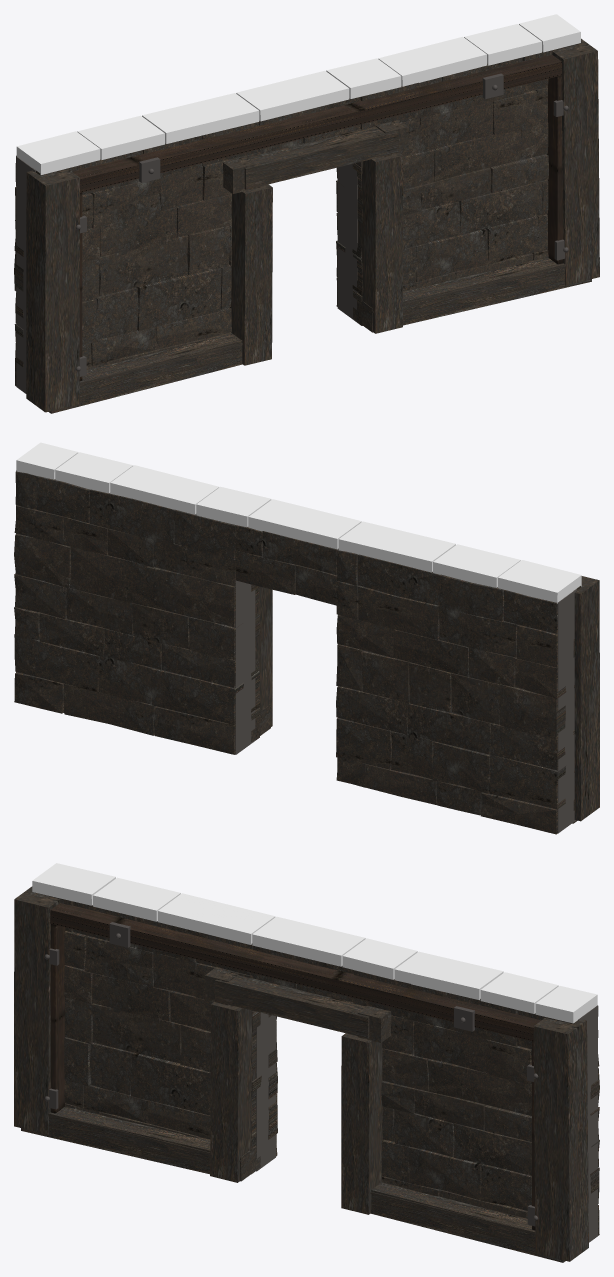
File: wall_front_v006_preview.glb
The picture shows the model from 3 angles, top to bottom: view 1: azimuth 30°, elevation 25°; view 2: azimuth 150°, elevation 25°; view 3: azimuth 330°, elevation 25°; orthographic projection.
Parts seen in each view (by area): view 1: ASSET_LoadBearingCornerPier_-1, ASSET_TimberTopBrace, ASSET_LoadBearingCornerPier_1, ASSET_LoadBearingDoorPier_1, ASSET_LoadBearingDoorPier_-1, ASSET_SolidStoneFoundation_1, ASSET_SolidStoneFoundation_-1, ASSET_WeightBearingLintel, ASSET_L_2_2, ASSET_L_3_1, ASSET_WeatheredFullDepthCoping_2, ASSET_WeatheredFullDepthCoping_3 (+40 smaller); view 2: ASSET_LoadBearingCornerPier_-1, ASSET_Structural_left, ASSET_FRONT_INNER_RIGHT_4_0, ASSET_Structural_right, ASSET_WeatheredFullDepthCoping_2, ASSET_FRONT_INNER_RIGHT_1_0, ASSET_FRONT_INNER_RIGHT_4_1, ASSET_WeatheredFullDepthCoping_3, ASSET_FRONT_INNER_RIGHT_1_2, ASSET_FRONT_INNER_RIGHT_6_1, ASSET_WeatheredFullDepthCoping_5, ASSET_FRONT_INNER_LEFT_5_2 (+57 smaller); view 3: ASSET_LoadBearingCornerPier_1, ASSET_TimberTopBrace, ASSET_LoadBearingCornerPier_-1, ASSET_LoadBearingDoorPier_-1, ASSET_LoadBearingDoorPier_1, ASSET_SolidStoneFoundation_-1, ASSET_SolidStoneFoundation_1, ASSET_WeightBearingLintel, ASSET_L_2_2, ASSET_L_3_1, ASSET_WeatheredFullDepthCoping_2, ASSET_WeatheredFullDepthCoping_3 (+41 smaller).
Boxes of the visible parts, <box> form: ASSET_LoadBearingCornerPier_-1: <box>26,169,79,412</box>; ASSET_TimberTopBrace: <box>72,55,561,192</box>; ASSET_LoadBearingCornerPier_1: <box>552,38,599,285</box>; ASSET_LoadBearingDoorPier_1: <box>357,153,403,333</box>; ASSET_LoadBearingDoorPier_-1: <box>230,184,272,365</box>; ASSET_SolidStoneFoundation_1: <box>353,258,591,332</box>; ASSET_SolidStoneFoundation_-1: <box>48,332,242,413</box>; ASSET_WeightBearingLintel: <box>244,126,398,189</box>; ASSET_L_2_2: <box>136,268,221,330</box>; ASSET_L_3_1: <box>98,235,188,296</box>; ASSET_WeatheredFullDepthCoping_2: <box>142,93,259,143</box>; ASSET_WeatheredFullDepthCoping_3: <box>236,70,349,121</box>; ASSET_LoadBearingCornerPier_-1: <box>574,576,599,821</box>; ASSET_Structural_left: <box>338,549,577,833</box>; ASSET_FRONT_INNER_RIGHT_4_0: <box>146,566,235,626</box>; ASSET_Structural_right: <box>16,470,255,754</box>; ASSET_WeatheredFullDepthCoping_2: <box>338,521,455,572</box>; ASSET_FRONT_INNER_RIGHT_1_0: <box>150,668,243,724</box>; ASSET_FRONT_INNER_RIGHT_4_1: <box>70,547,147,606</box>; ASSET_WeatheredFullDepthCoping_3: <box>248,499,361,549</box>; ASSET_FRONT_INNER_RIGHT_1_2: <box>14,634,99,691</box>; ASSET_FRONT_INNER_RIGHT_6_1: <box>89,489,174,543</box>; ASSET_WeatheredFullDepthCoping_5: <box>110,465,219,514</box>; ASSET_FRONT_INNER_LEFT_5_2: <box>358,585,439,639</box>; ASSET_LoadBearingCornerPier_1: <box>533,1018,588,1261</box>; ASSET_TimberTopBrace: <box>50,903,540,1041</box>; ASSET_LoadBearingCornerPier_-1: <box>14,886,60,1134</box>; ASSET_LoadBearingDoorPier_-1: <box>210,1002,256,1182</box>; ASSET_LoadBearingDoorPier_1: <box>341,1033,383,1214</box>; ASSET_SolidStoneFoundation_-1: <box>21,1107,260,1181</box>; ASSET_SolidStoneFoundation_1: <box>371,1182,565,1262</box>; ASSET_WeightBearingLintel: <box>215,975,369,1038</box>; ASSET_L_2_2: <box>131,1052,210,1115</box>; ASSET_L_3_1: <box>91,1003,181,1063</box>; ASSET_WeatheredFullDepthCoping_2: <box>158,893,275,944</box>; ASSET_WeatheredFullDepthCoping_3: <box>252,916,365,966</box>.
Size of the model in its own units: 8.07 by 3.37 by 1.01.
Materials: 7 (4 with a texture image).
